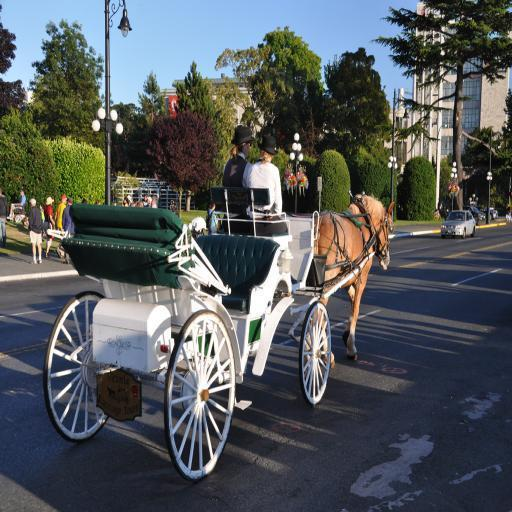horse: (312, 194, 394, 370)
